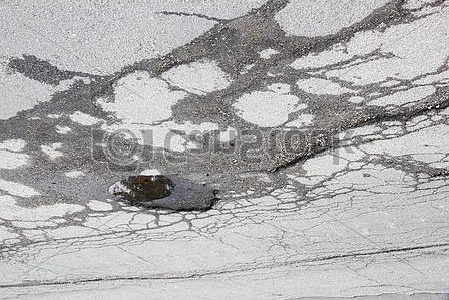pothole: (102, 172, 219, 217), (264, 144, 332, 175)
